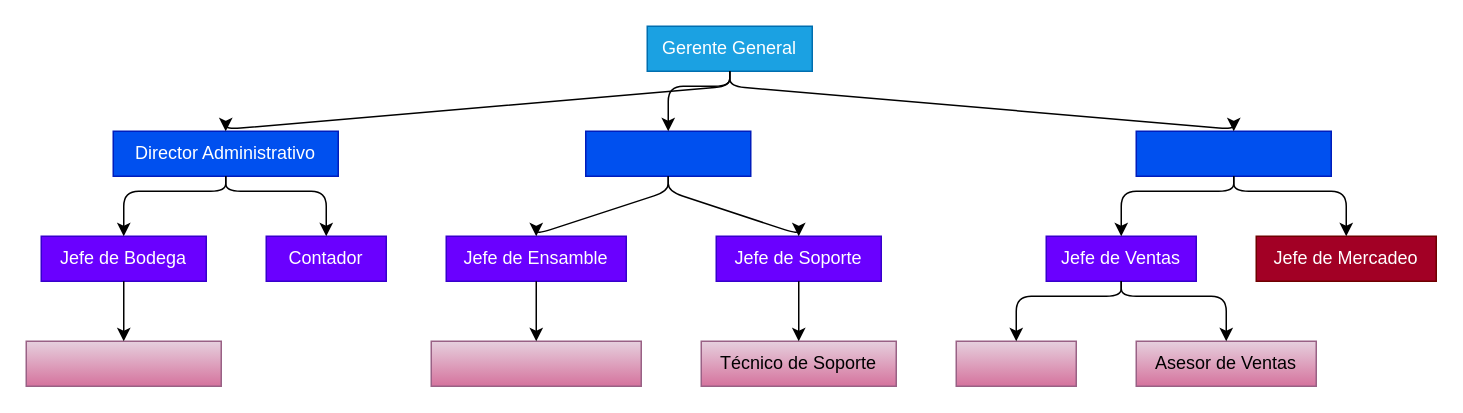
Image size: 1463x413. Some labels were removed from this diagram. The centre of each missing label's shape, as x and y in pixels:
Auxiliar de Bodega: (123,363)
Cajero: (1015,363)
Director Comercial: (1233,153)
Director Técnico: (667,153)
Técnico Ensamblador: (535,363)
